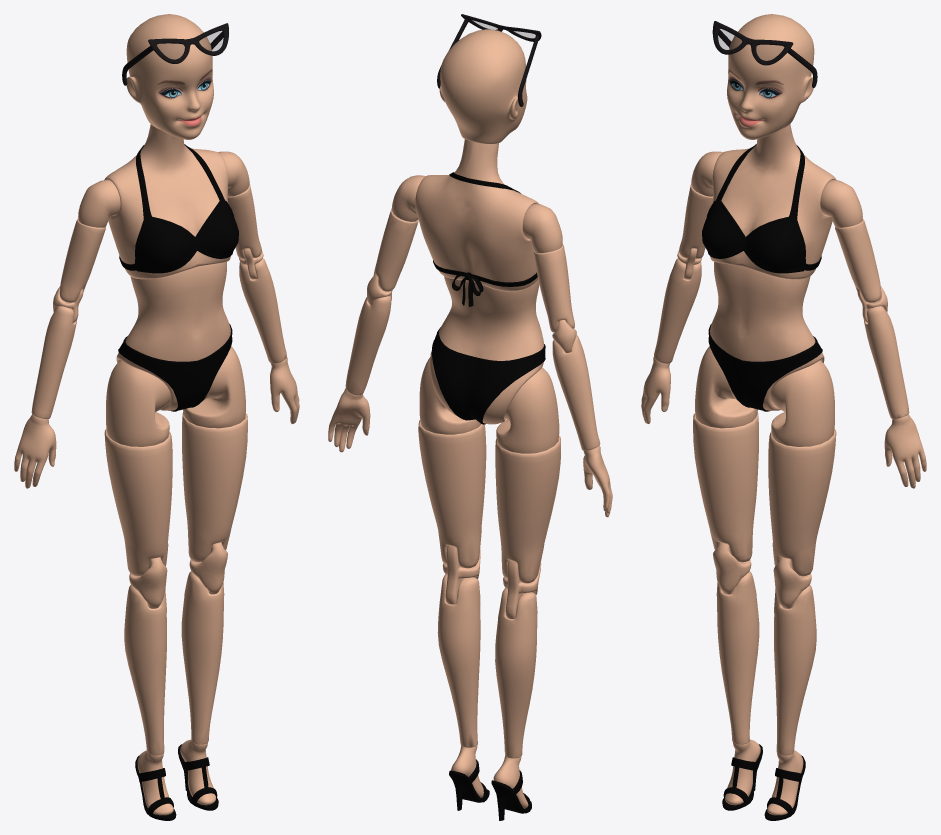
File: bald_barbie_rigged.glb
3 views of the same model, side by side, from view 1: azimuth 30°, elevation 25°; view 2: azimuth 150°, elevation 25°; view 3: azimuth 330°, elevation 25° (orthographic).
Visible parts, largest first — view 1: Object_14, Object_48, Object_29, Object_61, Object_26, Object_27; view 2: Object_14, Object_29, Object_48, Object_61, Object_26; view 3: Object_14, Object_48, Object_29, Object_61, Object_26, Object_27.
Part boxes in pixels (x1,y1,x2,y2): Object_14: [14, 124, 299, 815]; Object_48: [118, 144, 238, 411]; Object_29: [126, 14, 213, 139]; Object_61: [135, 744, 218, 820]; Object_26: [122, 23, 228, 85]; Object_27: [157, 31, 223, 59]; Object_14: [328, 139, 612, 808]; Object_29: [439, 29, 527, 143]; Object_48: [431, 172, 545, 424]; Object_61: [449, 759, 531, 820]; Object_26: [437, 14, 541, 106]; Object_14: [641, 124, 926, 815]; Object_48: [702, 144, 822, 411]; Object_29: [727, 14, 814, 139]; Object_61: [722, 744, 805, 820]; Object_26: [712, 21, 817, 87]; Object_27: [718, 29, 783, 60].
Bounding box in the file's own units: 0.6582 × 1.74 × 0.2281.
6 materials, 1 textured.
